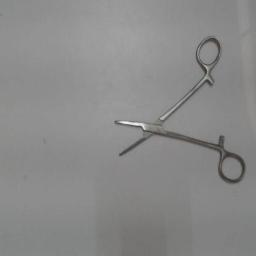Mayo Needle Holder: (110, 32, 248, 188)
